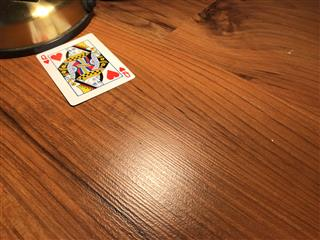QueenOfHearts: (35, 32, 135, 106)
